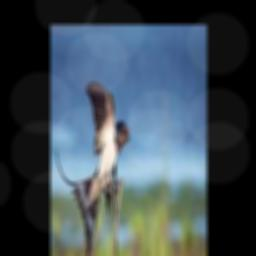Swallow: (55, 82, 129, 256)
